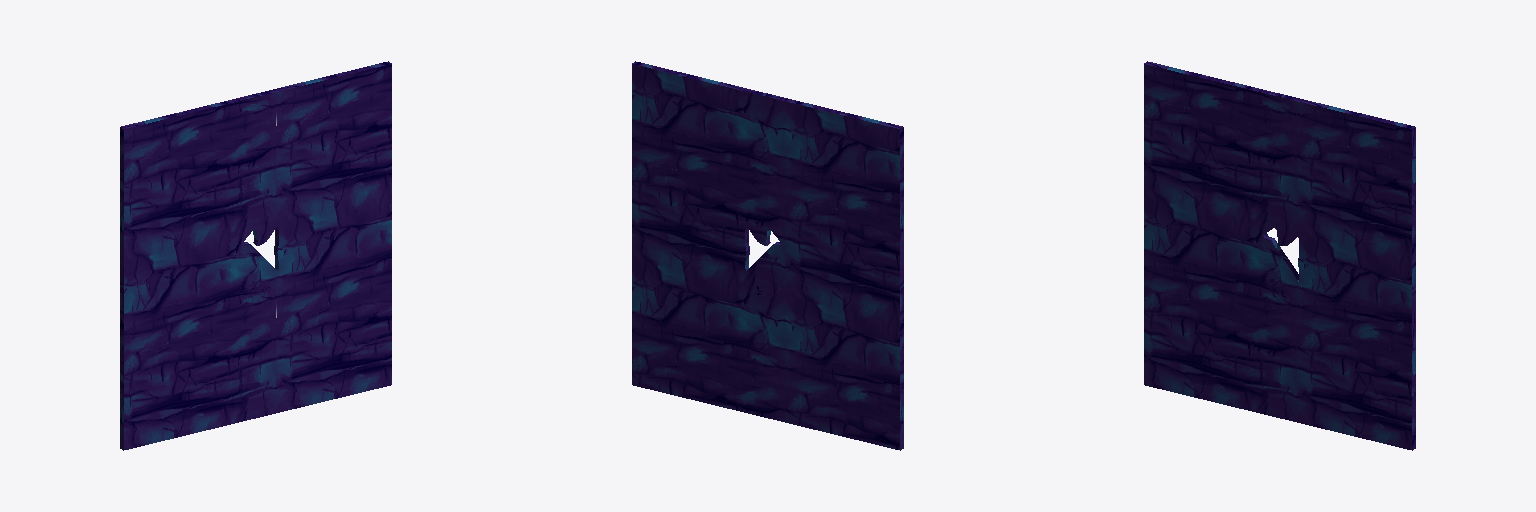
3 renders of one model, left to right at view 1: azimuth 30°, elevation 25°; view 2: azimuth 150°, elevation 25°; view 3: azimuth 330°, elevation 25°, orthographic.
Parts seen in each view (by area): view 1: Plane.054_Plane.059; view 2: Plane.054_Plane.059; view 3: Plane.054_Plane.059.
Part boxes in pixels (left/top/right/bottom): Plane.054_Plane.059: left=120, top=61, right=391, bottom=450; Plane.054_Plane.059: left=632, top=61, right=903, bottom=450; Plane.054_Plane.059: left=1144, top=61, right=1415, bottom=450.
Bounding box in the file's own units: 1911 × 2185 × 44.35.
1 materials, 1 textured.